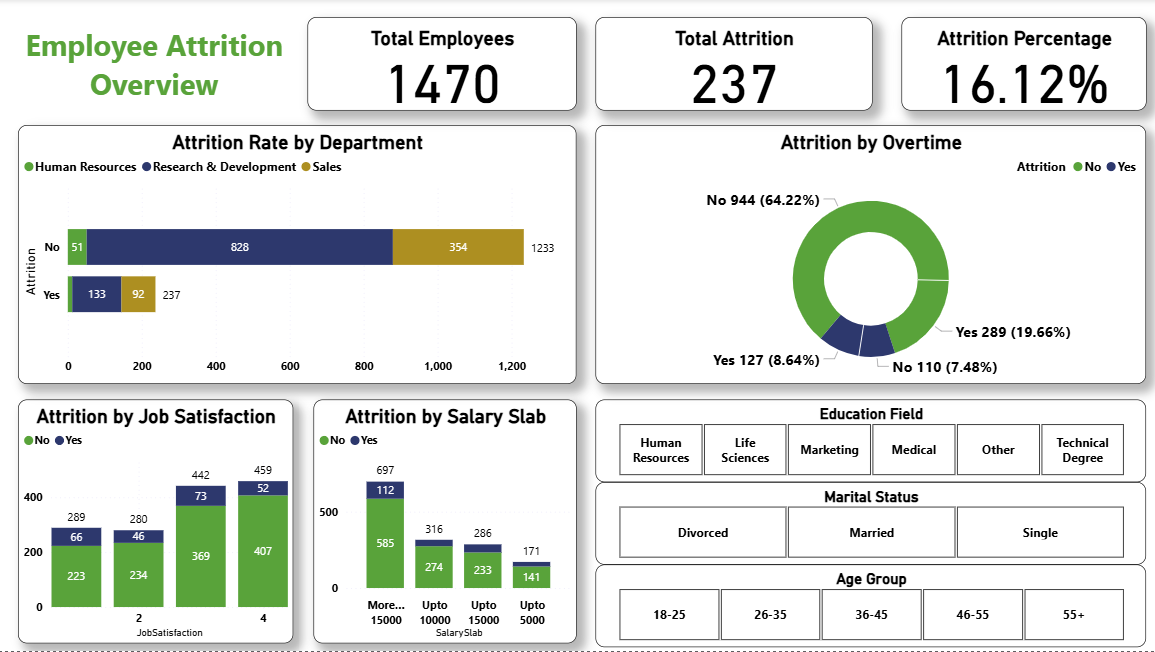

The page's visual inventory and layout, read from the dashboard file:
{"tool":"powerbi","page":{"name":"Overview","canvas":[1280,720],"ordinal":0},"visuals":[{"type":"card","title":"Total Employees","fields":{"Values":["CountNonNull(employee_retention emp_data.EmpID)"]},"box":[342.3,19.9,297.4,103],"z":0},{"type":"card","title":"Total Attrition","fields":{"Values":["Measures Table.Attrition Yes"]},"box":[661.3,19.9,305.7,103],"z":1000},{"type":"card","title":"Attrition Percentage","fields":{"Values":["Measures Table.Attrition Rate"]},"box":[998.6,19.9,270.8,103],"z":2000},{"type":"barChart","title":"Attrition Rate by Department","fields":{"Category":["emp_data.Attrition"],"Series":["emp_data.Department"],"Y":["CountNonNull(emp_data.Department)"]},"box":[23.3,139.6,616.5,285.8],"z":3000},{"type":"donutChart","title":"Attrition by Overtime","fields":{"Category":["emp_data.Attrition"],"Y":["CountNonNull(emp_data.OverTime)"],"Series":["emp_data.OverTime"]},"box":[661.3,139.6,608.2,285.8],"z":4000},{"type":"columnChart","title":"Attrition by Job Satisfaction","fields":{"Y":["CountNonNull(emp_data.Attrition)"],"Category":["emp_data.JobSatisfaction"],"Series":["emp_data.Attrition"]},"box":[23.3,442,304.1,269.2],"z":5000},{"type":"slicer","title":"Age Group","fields":{"Values":["emp_data.AgeGroup"]},"box":[661.3,624.8,608.2,91.4],"z":6000},{"type":"slicer","title":"Education Field","fields":{"Values":["emp_data.EducationField"]},"box":[661.3,442,608.2,91.4],"z":7000},{"type":"slicer","title":"Marital Status","fields":{"Values":["emp_data.MaritalStatus"]},"box":[661.3,533.4,608.2,91.4],"z":8000},{"type":"columnChart","title":"Attrition by Salary Slab","fields":{"Category":["emp_data.SalarySlab"],"Y":["CountNonNull(emp_data.Attrition)"],"Series":["emp_data.Attrition"]},"box":[348.9,442,290.8,269.2],"z":9000},{"type":"textbox","box":[23.3,23.3,300.8,96.4],"z":10000}]}

Visuals, with their boxes in screenshot pixels (x1, y1, x2, y2), scaled from the page's 1280x720 canvas onto the 1155x652 screenshot:
"Total Employees" card: <region>309, 18, 577, 111</region>
"Total Attrition" card: <region>597, 18, 873, 111</region>
"Attrition Percentage" card: <region>901, 18, 1145, 111</region>
"Attrition Rate by Department" barChart: <region>21, 126, 577, 385</region>
"Attrition by Overtime" donutChart: <region>597, 126, 1146, 385</region>
"Attrition by Job Satisfaction" columnChart: <region>21, 400, 295, 644</region>
"Age Group" slicer: <region>597, 566, 1146, 649</region>
"Education Field" slicer: <region>597, 400, 1146, 483</region>
"Marital Status" slicer: <region>597, 483, 1146, 566</region>
"Attrition by Salary Slab" columnChart: <region>315, 400, 577, 644</region>
textbox: <region>21, 21, 292, 108</region>
